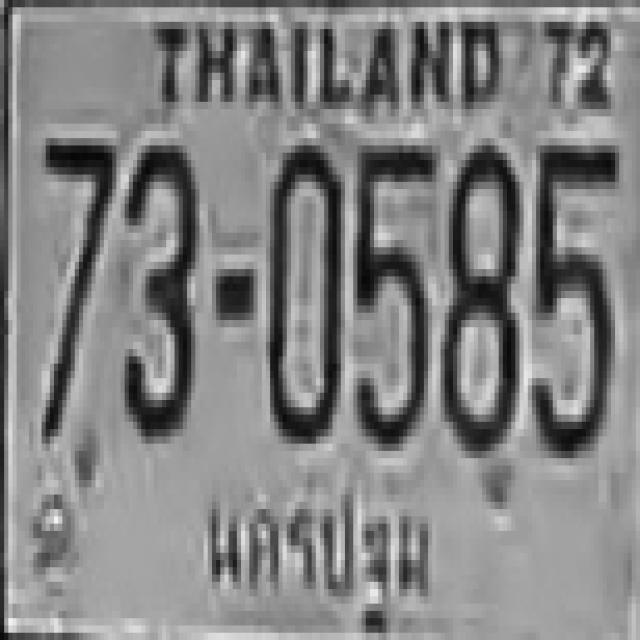0: (266, 138, 341, 436)
3: (120, 142, 196, 433)
5: (528, 138, 615, 451), (351, 138, 434, 444)
7: (40, 131, 114, 444), (42, 134, 112, 403)
8: (440, 138, 516, 451)
NakhonPathom: (204, 486, 448, 632)
